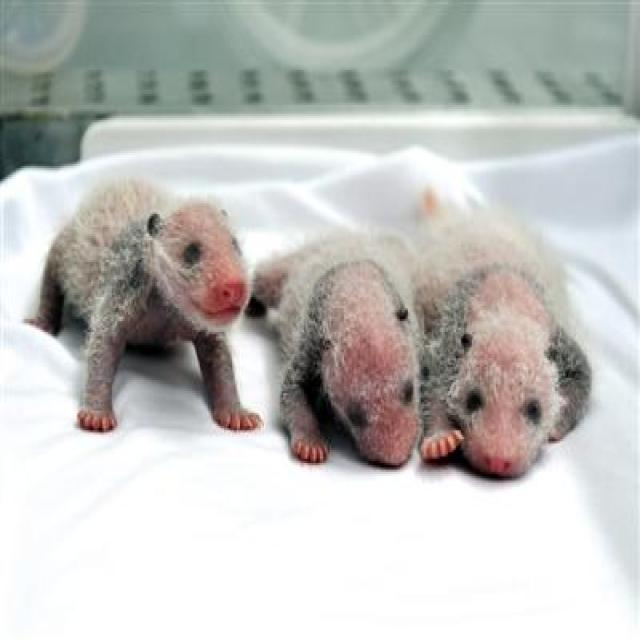panda: (52, 144, 604, 496)
